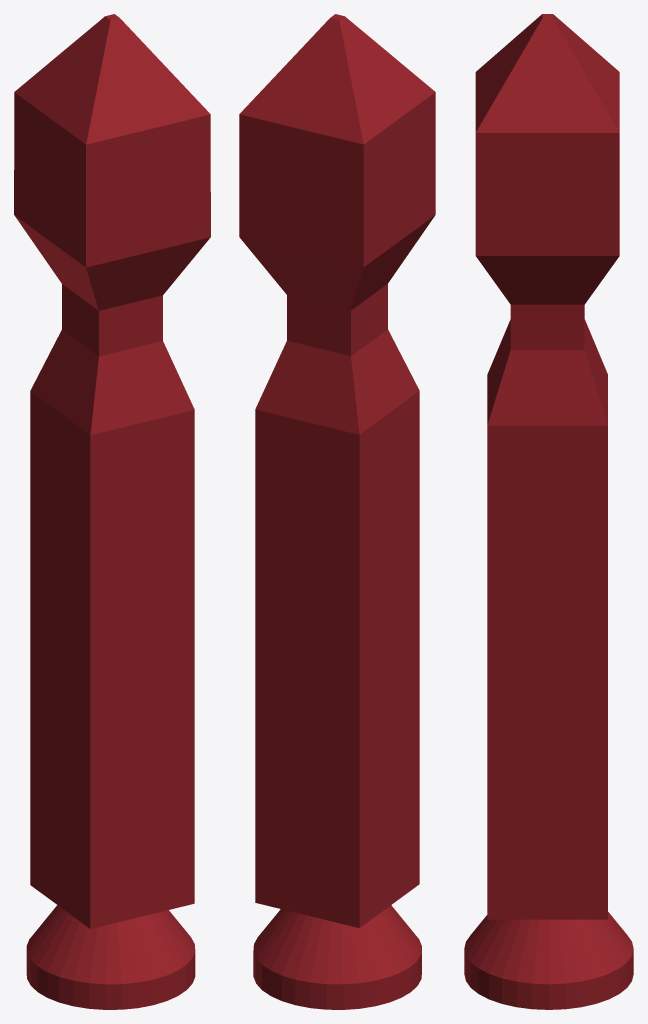
The model's file is torpedo.obj.
3 views of the same model, side by side, from view 1: azimuth 30°, elevation 25°; view 2: azimuth 150°, elevation 25°; view 3: azimuth 270°, elevation 25° (orthographic).
Parts seen in each view (by area): view 1: Cube; view 2: Cube; view 3: Cube.
Part boxes in pixels (x1,y1,x2,y2): Cube: (14, 14, 210, 1009); Cube: (239, 14, 435, 1009); Cube: (464, 14, 633, 1009).
Bounding box in the file's own units: 0.8421 × 5.26 × 0.8421.
